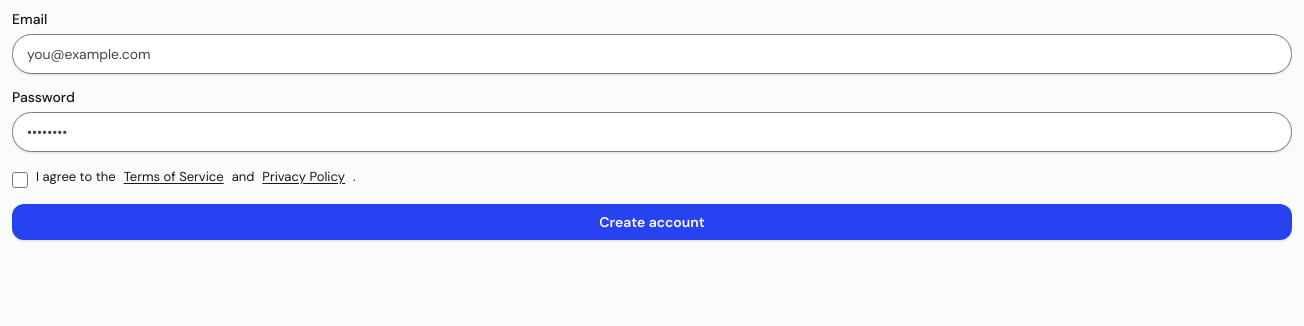
SignUpForm › blocks submission until the policies are accepted (CL-5)
Type "test@example.com" into the field labelled "Email".
click(652, 54); type("test@example.com")  # box top-left (12, 34), bottom-right (1292, 74)
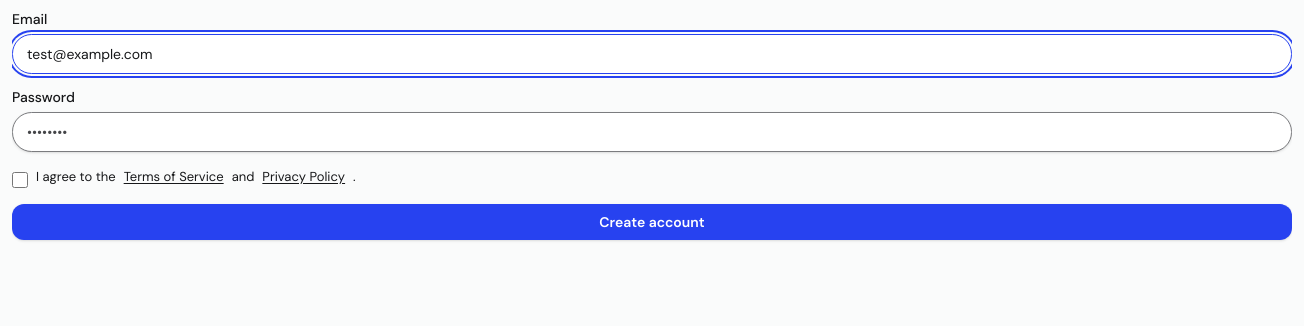
Type "ValidPass1!" into the password field labelled "Password".
click(652, 132); type("ValidPass1!")  # box top-left (12, 112), bottom-right (1292, 152)
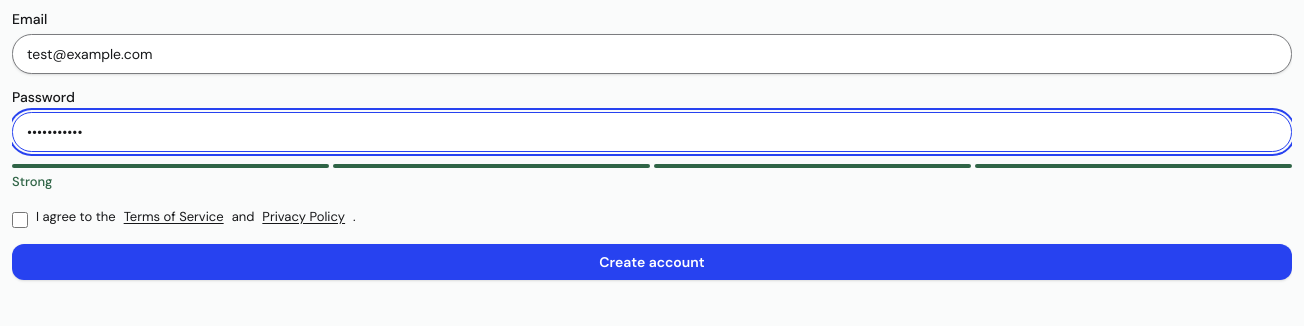
Click the button "Create account".
click(652, 262)  # box top-left (12, 244), bottom-right (1292, 280)
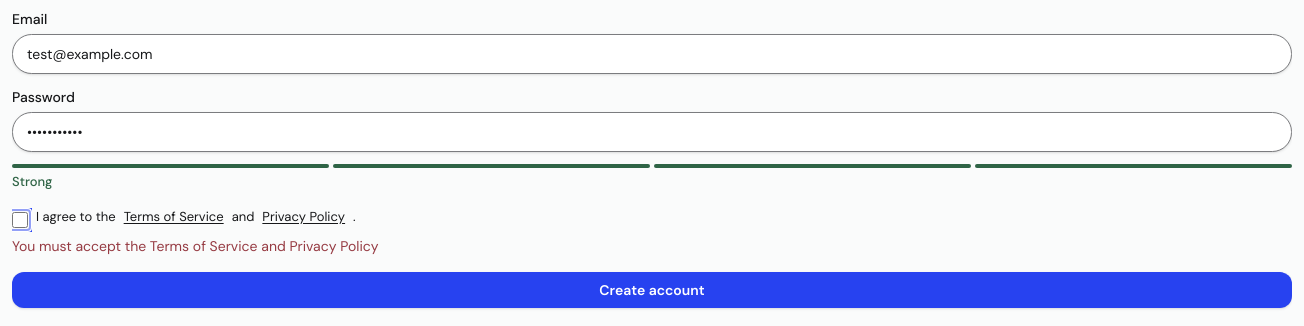
Expected: the text "You must accept the Terms of Service and Privacy Policy" is shown, top-left (12, 237), bottom-right (378, 255)
